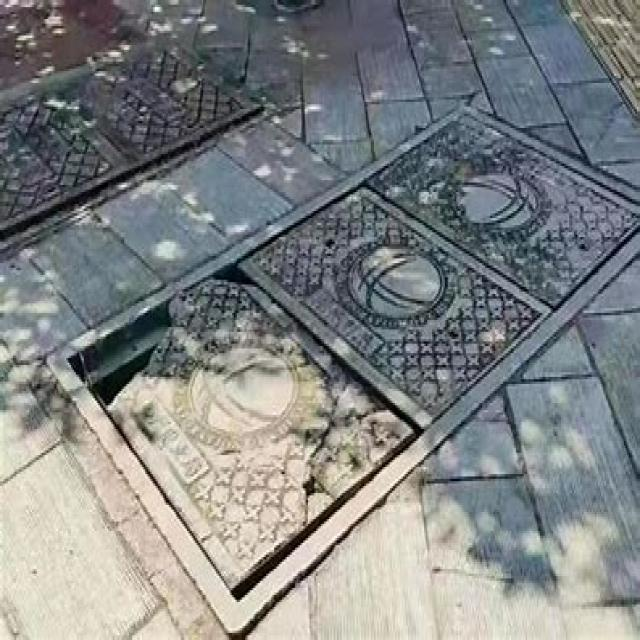manhole: (49, 105, 640, 635)
